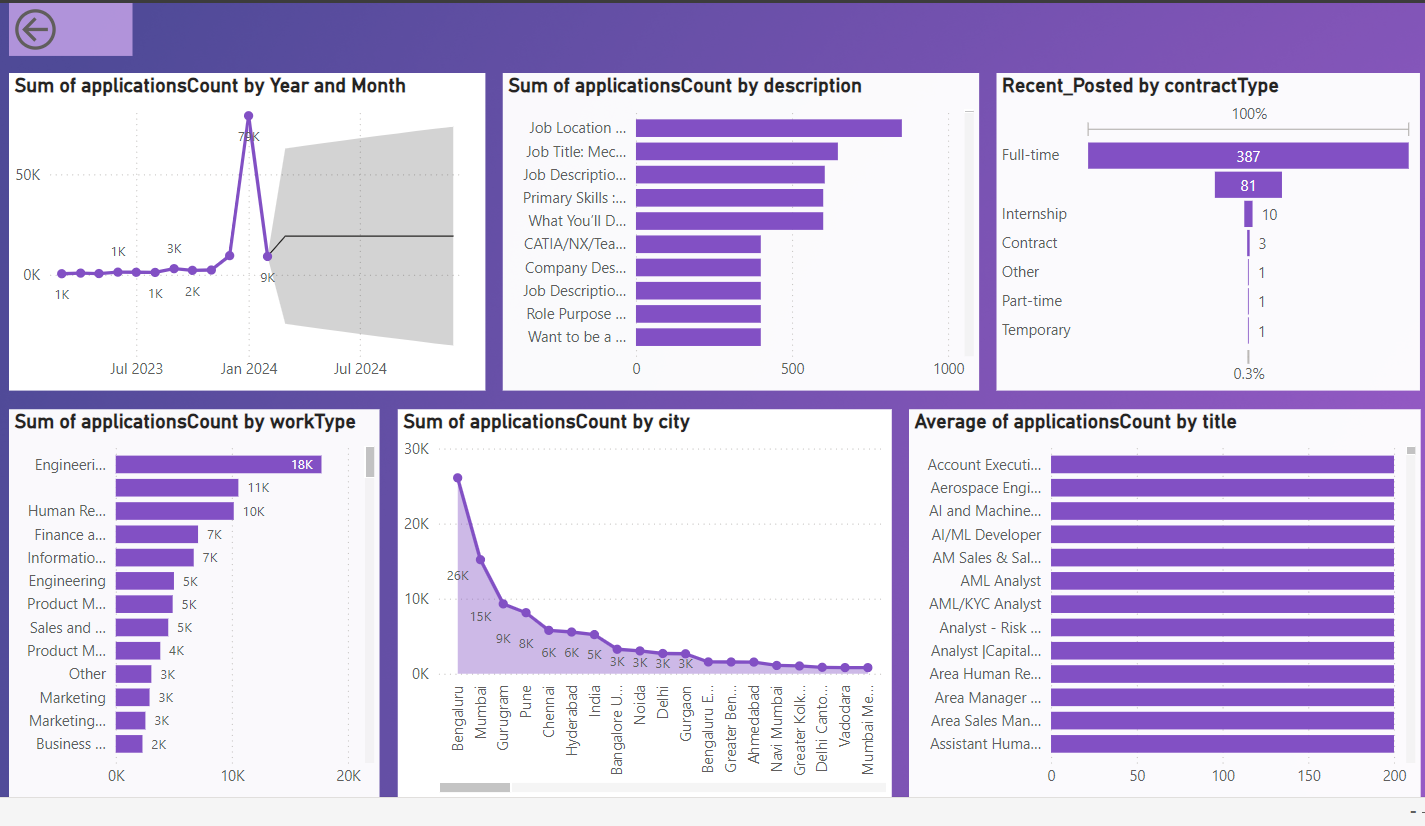

This screenshot's page, from the dashboard's own definition file:
{"tool":"powerbi","page":{"name":"Linkedin2","canvas":[1280,720],"ordinal":1},"visuals":[{"type":"stackedAreaChart","fields":{"Category":["LinkedIn_Jobs_Data_India.city"],"Y":["Sum(LinkedIn_Jobs_Data_India.applicationsCount)"]},"box":[352,368,448,352],"z":0},{"type":"barChart","fields":{"Category":["LinkedIn_Jobs_Data_India.title"],"Y":["Avg(LinkedIn_Jobs_Data_India.applicationsCount)"]},"box":[816,368,464,352],"z":1000},{"type":"funnel","fields":{"Category":["LinkedIn_Jobs_Data_India.contractType"],"Y":["LinkedIn_Jobs_Data_India.Recent_Posted"]},"box":[896,64,384,288],"z":2000},{"type":"clusteredBarChart","fields":{"Category":["LinkedIn_Jobs_Data_India.description"],"Y":["Sum(LinkedIn_Jobs_Data_India.applicationsCount)"]},"box":[448,64,432,288],"z":3000},{"type":"barChart","fields":{"Y":["Sum(LinkedIn_Jobs_Data_India.applicationsCount)"],"Category":["LinkedIn_Jobs_Data_India.workType"]},"box":[0,368,336,352],"z":4000},{"type":"lineChart","fields":{"Category":["LinkedIn_Jobs_Data_India.publishedAt.Variation.Date Hierarchy.Year","LinkedIn_Jobs_Data_India.publishedAt.Variation.Date Hierarchy.Month"],"Y":["Sum(LinkedIn_Jobs_Data_India.applicationsCount)"]},"box":[0,64,432,288],"z":5000},{"type":"actionButton","box":[0,0,112,48],"z":6000}]}

Visuals, with their boxes in screenshot pixels (x1, y1, x2, y2), scaled from the page's 1280x720 canvas onto the 1425x826 screenshot:
stackedAreaChart - LinkedIn_Jobs_Data_India.city x Sum(LinkedIn_Jobs_Data_India.applicationsCount): <region>392, 422, 891, 825</region>
barChart - LinkedIn_Jobs_Data_India.title x Avg(LinkedIn_Jobs_Data_India.applicationsCount): <region>908, 422, 1424, 825</region>
funnel - LinkedIn_Jobs_Data_India.contractType x LinkedIn_Jobs_Data_India.Recent_Posted: <region>998, 73, 1424, 404</region>
clusteredBarChart - LinkedIn_Jobs_Data_India.description x Sum(LinkedIn_Jobs_Data_India.applicationsCount): <region>499, 73, 980, 404</region>
barChart - Sum(LinkedIn_Jobs_Data_India.applicationsCount) x LinkedIn_Jobs_Data_India.workType: <region>0, 422, 374, 825</region>
lineChart - LinkedIn_Jobs_Data_India.publishedAt.Variation.Date Hierarchy.Year x LinkedIn_Jobs_Data_India.publishedAt.Variation.Date Hierarchy.Month: <region>0, 73, 481, 404</region>
actionButton: <region>0, 0, 125, 55</region>
